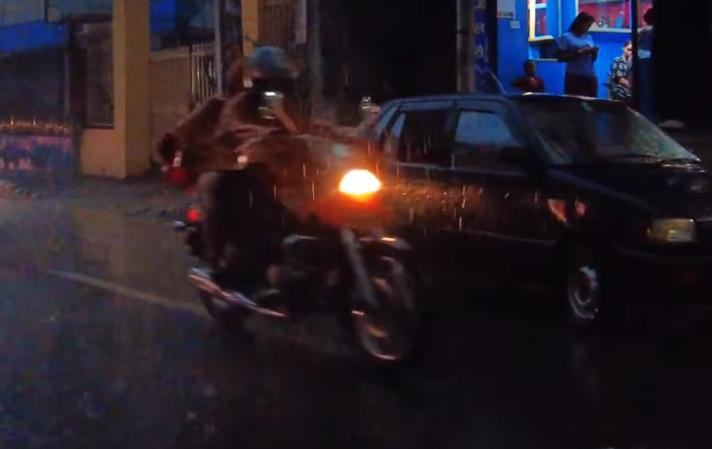bike: (152, 139, 447, 374)
